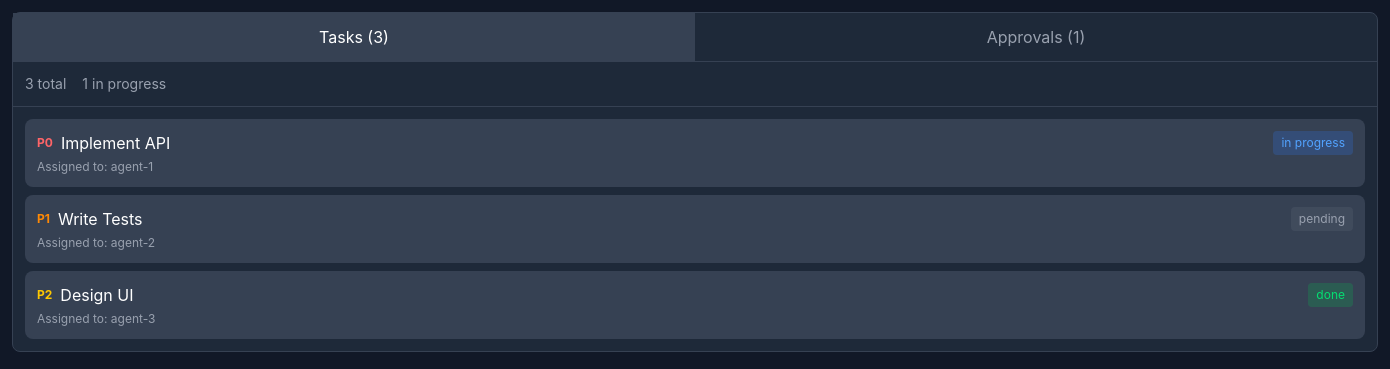
Scenario: TaskPanel › should show approval requests
Note: Click on approvals tab first
Click the button with test id "tab-approvals". click: click(1036, 37)
box: [695,13,1377,61]
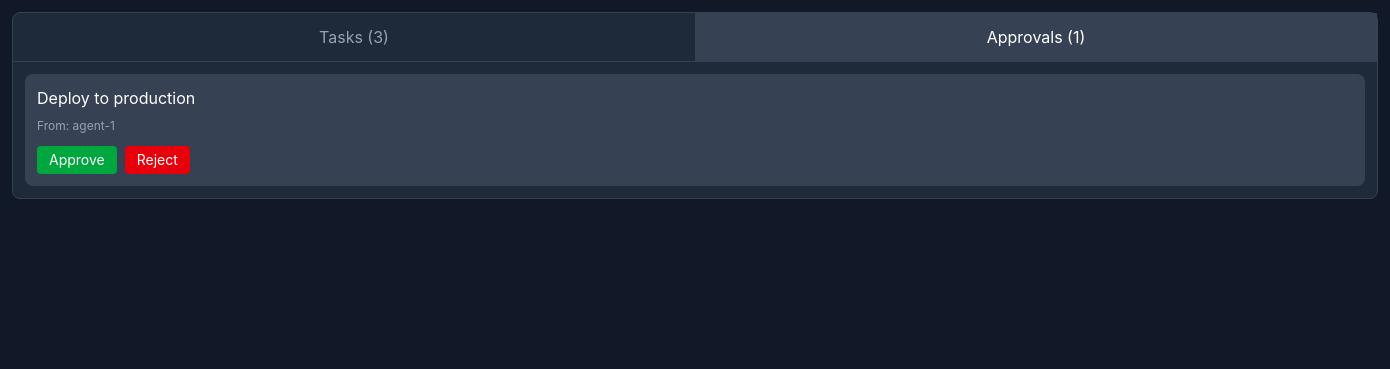
Expected: the text "Deploy to production" is shown, [37,88,195,108]
Expected: the button "Approve" is shown, [37,146,117,174]
Expected: the button "Reject" is shown, [125,146,190,174]
